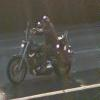Motorcycle: (6, 23, 82, 91)
